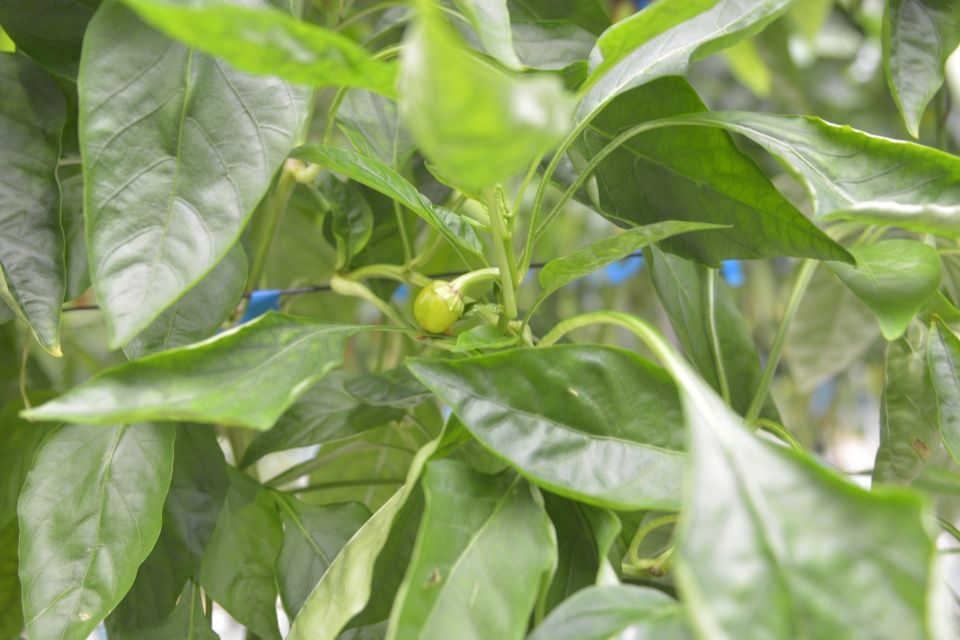immature: (409, 274, 470, 333)
